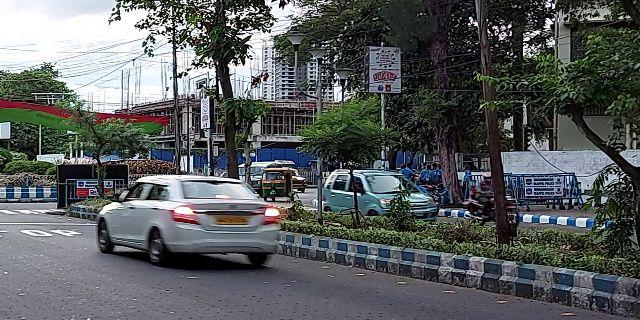Car: (93, 173, 290, 267)
